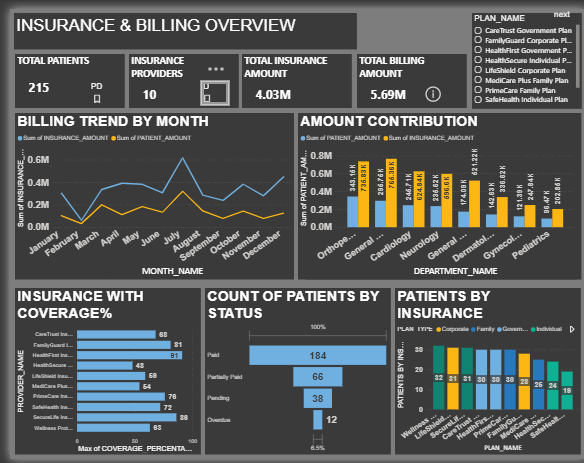

The dashboard page shown, as its layout file describes it:
{"tool":"powerbi","page":{"name":"Page 2","canvas":[1280,1000],"ordinal":1},"visuals":[{"type":"cardVisual","title":"TOTAL PATIENTS","fields":{"Data":["DIM_PATIENT.TOTAL PATIENTS"]},"box":[10,100,244,120],"z":1000},{"type":"cardVisual","title":"TOTAL BILLING AMOUNT","fields":{"Data":["FACT_BILLING.total billing amount"]},"box":[772,100,244,120],"z":4000},{"type":"actionButton","title":"PD","box":[179.1,159.4,74.8,53.1],"z":10000},{"type":"lineStackedColumnComboChart","title":"YEAR WISE DISTRIBUTION","fields":{"Category":["DIM_DATE.YEAR"],"Series":["DIM_PATIENT.GENDER"],"Y":["CountNonNull(FACT_APPOINTMENTS.APPOINTMENT_ID)"]},"box":[657.5,230.3,612.2,370.1],"z":11000},{"type":"lineChart","title":"BILLING TREND BY MONTH","fields":{"Category":["DIM_DATE.MONTH_NAME"],"Y":["Sum(FACT_BILLING.INSURANCE_AMOUNT)","Sum(FACT_BILLING.PATIENT_AMOUNT)"]},"box":[10,230.3,620.1,370.1],"z":15000},{"type":"clusteredColumnChart","title":"AMOUNT CONTRIBUTION","fields":{"Category":["DIM_DEPARTMENT.DEPARTMENT_NAME"],"Y":["Sum(FACT_BILLING.PATIENT_AMOUNT)","Sum(FACT_BILLING.INSURANCE_AMOUNT)"]},"box":[640,230.3,620,370.1],"z":16000},{"type":"clusteredBarChart","title":"INSURANCE WITH COVERAGE%","fields":{"Category":["DIM_INSURANCE.PROVIDER_NAME"],"Y":["Max(DIM_INSURANCE.COVERAGE_PERCENTAGE)"]},"box":[10,620.1,413,370.1],"z":17000},{"type":"funnel","title":"COUNT OF PATIENTS BY STATUS","fields":{"Category":["FACT_BILLING.PAYMENT_STATUS","FACT_BILLING.PAYMENT_METHOD"],"Y":["CountNonNull(FACT_BILLING.PATIENT_ID)"]},"box":[433,619.1,412.8,370.2],"z":18000},{"type":"lineStackedColumnComboChart","title":"PATIENTS BY INSURANCE","fields":{"Category":["DIM_INSURANCE.PLAN_NAME"],"Y":["FACT_BILLING.PATIENTS BY INSURANCE"],"Series":["DIM_INSURANCE.PLAN_TYPE"]},"box":[856,620.1,413,370.1],"z":19000},{"type":"cardVisual","title":"TOTAL INSURANCE AMOUNT","fields":{"Data":["FACT_BILLING.INSURANCE AMOUNT"]},"box":[515.7,100.4,244,120],"z":20000},{"type":"cardVisual","title":"INSURANCE PROVIDERS","fields":{"Data":["DIM_INSURANCE.TOTAL INSURANCE"]},"box":[263.8,100.4,244.1,120.1],"z":21000},{"type":"listSlicer","fields":{"Values":["DIM_INSURANCE.PLAN_NAME"]},"box":[1025.6,9.8,244.1,212.6],"z":22000},{"type":"actionButton","title":"ID","box":[423.4,159.6,63.8,53.2],"z":23000},{"type":"actionButton","title":"next","box":[1209.8,0,70.6,29.4],"z":24000},{"type":"actionButton","box":[917.6,166.7,64.7,45.1],"z":26000},{"type":"textbox","box":[9.6,9.6,761.5,80.8],"z":27000},{"type":"qnaVisual","box":[772,0,150,150],"z":27001}]}

Visuals, with their boxes in screenshot pixels (x1, y1, x2, y2), scaled from the page's 1280x1000 canvas onto the 584x463 screenshot:
"TOTAL PATIENTS" cardVisual: {"x1": 5, "y1": 46, "x2": 116, "y2": 102}
"TOTAL BILLING AMOUNT" cardVisual: {"x1": 352, "y1": 46, "x2": 464, "y2": 102}
"PD" actionButton: {"x1": 82, "y1": 74, "x2": 116, "y2": 98}
"YEAR WISE DISTRIBUTION" lineStackedColumnComboChart: {"x1": 300, "y1": 107, "x2": 579, "y2": 278}
"BILLING TREND BY MONTH" lineChart: {"x1": 5, "y1": 107, "x2": 287, "y2": 278}
"AMOUNT CONTRIBUTION" clusteredColumnChart: {"x1": 292, "y1": 107, "x2": 575, "y2": 278}
"INSURANCE WITH COVERAGE%" clusteredBarChart: {"x1": 5, "y1": 287, "x2": 193, "y2": 458}
"COUNT OF PATIENTS BY STATUS" funnel: {"x1": 198, "y1": 287, "x2": 386, "y2": 458}
"PATIENTS BY INSURANCE" lineStackedColumnComboChart: {"x1": 391, "y1": 287, "x2": 579, "y2": 458}
"TOTAL INSURANCE AMOUNT" cardVisual: {"x1": 235, "y1": 46, "x2": 347, "y2": 102}
"INSURANCE PROVIDERS" cardVisual: {"x1": 120, "y1": 46, "x2": 232, "y2": 102}
listSlicer - DIM_INSURANCE.PLAN_NAME: {"x1": 468, "y1": 5, "x2": 579, "y2": 103}
"ID" actionButton: {"x1": 193, "y1": 74, "x2": 222, "y2": 99}
"next" actionButton: {"x1": 552, "y1": 0, "x2": 583, "y2": 14}
actionButton: {"x1": 419, "y1": 77, "x2": 448, "y2": 98}
textbox: {"x1": 4, "y1": 4, "x2": 352, "y2": 42}
qnaVisual: {"x1": 352, "y1": 0, "x2": 421, "y2": 69}
